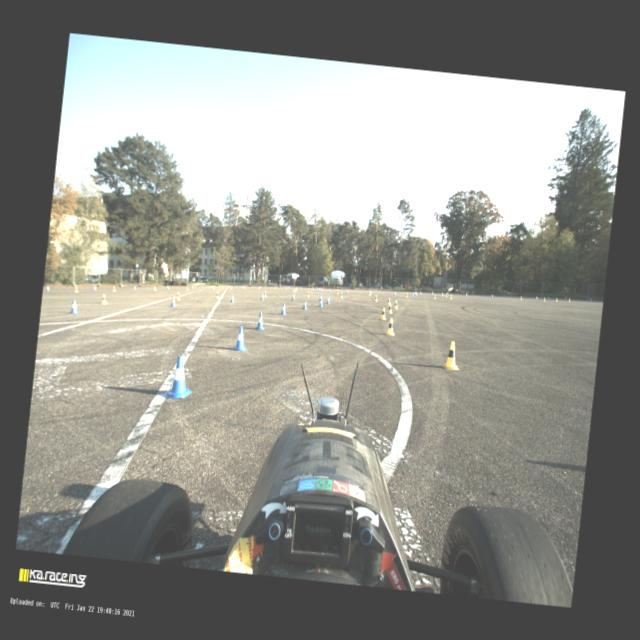blue_cone: (163, 354, 196, 401), (232, 325, 248, 351), (255, 312, 266, 331), (68, 300, 80, 314), (278, 302, 288, 314), (300, 298, 308, 310), (170, 296, 177, 307), (318, 298, 324, 306), (230, 294, 235, 302), (291, 292, 296, 300), (259, 292, 264, 300), (326, 295, 330, 303), (318, 294, 322, 302), (46, 286, 50, 291), (92, 286, 96, 290), (166, 285, 169, 290), (133, 286, 136, 290), (317, 286, 319, 292), (346, 288, 348, 294), (368, 290, 371, 294), (393, 292, 396, 296), (419, 290, 422, 294), (318, 287, 320, 292), (328, 288, 330, 293), (415, 291, 417, 296), (536, 295, 538, 300), (192, 285, 194, 289), (210, 285, 212, 289), (227, 284, 229, 288), (241, 284, 243, 288), (276, 286, 278, 290), (300, 286, 302, 290), (312, 286, 314, 290), (316, 286, 318, 290), (320, 288, 322, 292), (412, 292, 414, 296), (414, 290, 416, 294), (431, 291, 433, 295), (491, 294, 493, 298), (547, 296, 549, 300), (564, 296, 566, 300), (590, 298, 592, 302), (258, 285, 260, 288), (287, 286, 289, 289), (447, 292, 448, 294), (466, 292, 466, 296)
yellow_cone: (442, 340, 462, 370), (386, 318, 396, 336), (100, 293, 108, 305), (381, 307, 386, 319), (388, 304, 393, 314), (393, 300, 398, 310), (373, 294, 378, 302), (386, 297, 391, 305), (176, 292, 181, 300), (306, 290, 310, 298), (216, 290, 220, 298), (74, 286, 79, 292), (340, 291, 344, 298), (263, 290, 267, 297), (112, 286, 116, 292), (294, 286, 298, 291), (444, 292, 448, 297), (555, 296, 558, 302), (449, 293, 452, 299), (405, 292, 408, 298), (543, 297, 546, 302), (433, 294, 436, 299), (212, 285, 215, 289), (519, 296, 522, 300), (310, 288, 312, 294), (273, 284, 275, 290), (243, 285, 246, 289), (368, 290, 370, 296), (336, 289, 338, 294), (154, 286, 156, 290), (186, 286, 188, 290), (568, 298, 570, 302), (441, 292, 443, 296), (292, 287, 294, 291), (294, 288, 296, 292), (284, 286, 286, 290), (258, 285, 260, 289), (230, 285, 232, 289)
